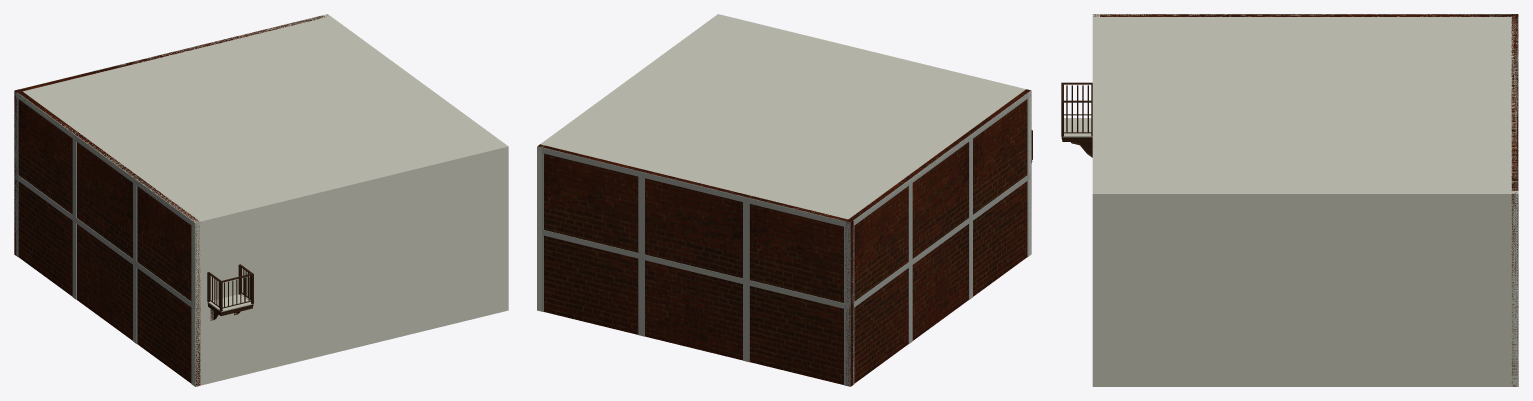
File: building.glb
3 renders of one model, left to right at view 1: azimuth 30°, elevation 25°; view 2: azimuth 150°, elevation 25°; view 3: azimuth 270°, elevation 25°, orthographic. The views are drawn at different scales.
Visible parts, largest first — view 1: roof/house:0/roof_slab#0001, house:0/edge0/z0/house:0/edge0/z0/wall_0_0, house:0/edge3/z0/house:0/edge3/z0/wall_0_0, house:0/edge2/z0/house:0/edge2/z0/wall_0_0, house:0/edge3/z0/house:0/edge3/z0/beam_0_0, house:0/edge3/z0/house:0/edge3/z0/beam_1_0, house:0/edge1/z0/house:0/edge1/z0/wall_0_0; view 2: roof/house:0/roof_slab#0001, house:0/edge2/z0/house:0/edge2/z0/wall_0_0, house:0/edge3/z0/house:0/edge3/z0/wall_0_0, house:0/edge1/z0/house:0/edge1/z0/wall_0_0, house:0/edge2/z0/house:0/edge2/z0/beam_1_0, house:0/edge2/z0/house:0/edge2/z0/beam_0_0, house:0/edge0/z0/house:0/edge0/z0/wall_0_0, house:0/edge3/z0/house:0/edge3/z0/beam_0_0, house:0/edge3/z0/house:0/edge3/z0/beam_1_0, house:0/edge2/z0/house:0/edge2/z0/column_2_0, house:0/edge2/z0/house:0/edge2/z0/column_2_1, house:0/edge2/z0/house:0/edge2/z0/column_3_0 (+3 smaller); view 3: house:0/edge1/z0/house:0/edge1/z0/wall_0_0, roof/house:0/roof_slab#0001, house:0/edge0/z0/house:0/edge0/z0/wall_0_0, house:0/edge2/z0/house:0/edge2/z0/wall_0_0, house:0/edge3/z0/house:0/edge3/z0/wall_0_0, balcony/sample/balcony_platform#0001.
Boxes of the visible parts, bbox=[...] form: roof/house:0/roof_slab#0001: bbox=[15, 14, 506, 225]; house:0/edge0/z0/house:0/edge0/z0/wall_0_0: bbox=[192, 144, 508, 386]; house:0/edge3/z0/house:0/edge3/z0/wall_0_0: bbox=[17, 89, 200, 386]; house:0/edge2/z0/house:0/edge2/z0/wall_0_0: bbox=[14, 15, 327, 255]; house:0/edge3/z0/house:0/edge3/z0/beam_0_0: bbox=[14, 173, 195, 309]; house:0/edge3/z0/house:0/edge3/z0/beam_1_0: bbox=[14, 92, 195, 227]; house:0/edge1/z0/house:0/edge1/z0/wall_0_0: bbox=[323, 14, 508, 311]; roof/house:0/roof_slab#0001: bbox=[540, 14, 1031, 223]; house:0/edge2/z0/house:0/edge2/z0/wall_0_0: bbox=[538, 144, 853, 386]; house:0/edge3/z0/house:0/edge3/z0/wall_0_0: bbox=[845, 89, 1030, 385]; house:0/edge1/z0/house:0/edge1/z0/wall_0_0: bbox=[537, 15, 722, 311]; house:0/edge2/z0/house:0/edge2/z0/beam_1_0: bbox=[538, 147, 850, 228]; house:0/edge2/z0/house:0/edge2/z0/beam_0_0: bbox=[542, 230, 850, 309]; house:0/edge0/z0/house:0/edge0/z0/wall_0_0: bbox=[717, 14, 1031, 256]; house:0/edge3/z0/house:0/edge3/z0/beam_0_0: bbox=[850, 172, 1031, 309]; house:0/edge3/z0/house:0/edge3/z0/beam_1_0: bbox=[850, 90, 1031, 227]; house:0/edge2/z0/house:0/edge2/z0/column_2_0: bbox=[638, 176, 644, 254]; house:0/edge2/z0/house:0/edge2/z0/column_2_1: bbox=[638, 258, 644, 336]; house:0/edge2/z0/house:0/edge2/z0/column_3_0: bbox=[743, 202, 749, 280]; house:0/edge1/z0/house:0/edge1/z0/wall_0_0: bbox=[1092, 191, 1518, 386]; roof/house:0/roof_slab#0001: bbox=[1092, 14, 1518, 198]; house:0/edge0/z0/house:0/edge0/z0/wall_0_0: bbox=[1092, 14, 1099, 386]; house:0/edge2/z0/house:0/edge2/z0/wall_0_0: bbox=[1511, 14, 1518, 386]; house:0/edge3/z0/house:0/edge3/z0/wall_0_0: bbox=[1093, 14, 1517, 16]; balcony/sample/balcony_platform#0001: bbox=[1063, 118, 1092, 137].
Bounding box in the file's own units: 12 × 6 × 12.89.
4 materials, 2 textured.
